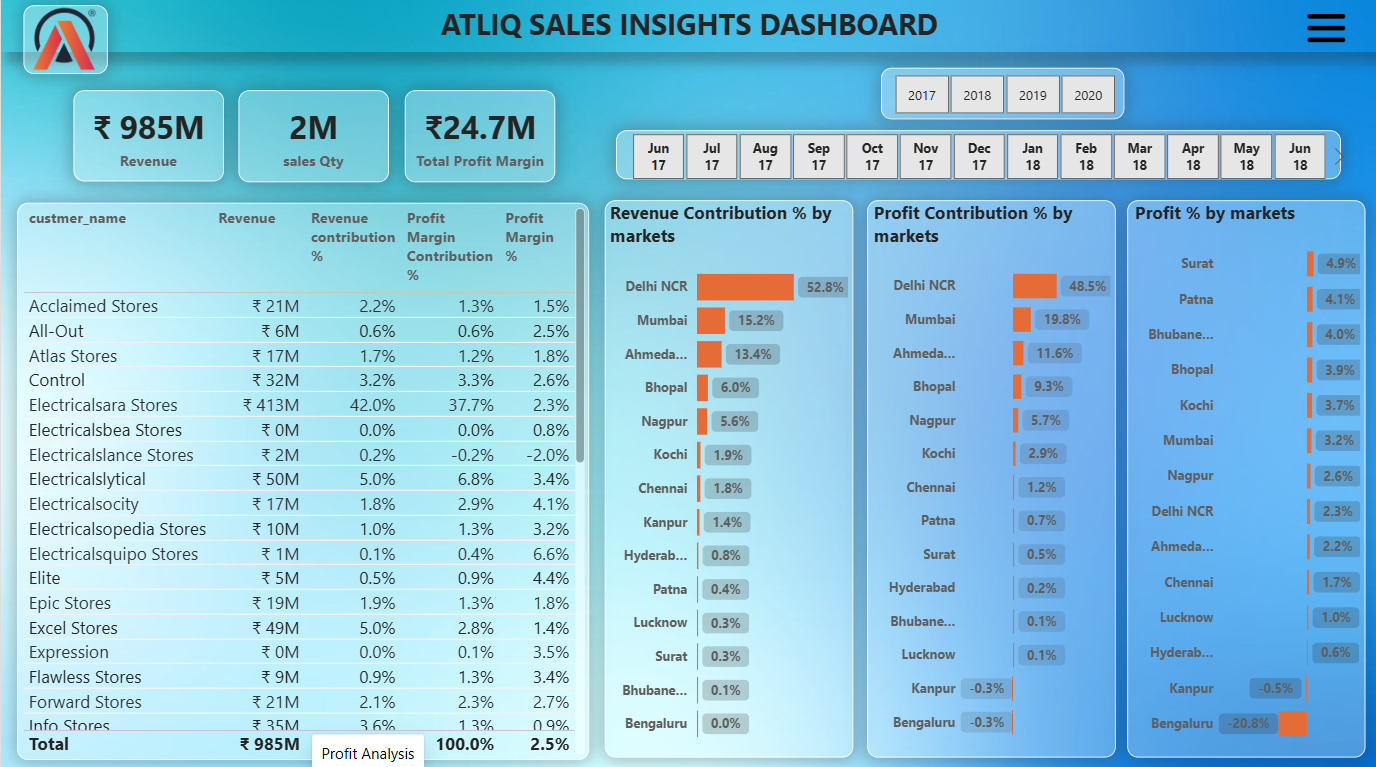

This screenshot's page, from the dashboard's own definition file:
{"tool":"powerbi","page":{"name":"Profit Analysis","canvas":[1280,720],"ordinal":1},"visuals":[{"type":"textbox","box":[0,0,1280.5,49.8],"z":0},{"type":"image","box":[1210.2,4.4,45.4,45.4],"z":1000},{"type":"shape","box":[67.5,84.4,139.9,84.4],"z":6000},{"type":"shape","box":[375.1,84.4,139.9,85.6],"z":7000},{"type":"shape","box":[220.7,84.4,139.9,85.6],"z":8000},{"type":"shape","box":[15.7,189.3,531.9,518.6],"z":9000},{"type":"shape","box":[562,186.9,231.6,518.6],"z":10000},{"type":"shape","box":[805.6,186.9,231.6,518.6],"z":11000},{"type":"shape","box":[1048,186.9,221.9,518.6],"z":12000},{"type":"shape","box":[818.9,63.9,226.7,48.2],"z":13000},{"type":"shape","box":[571.7,121.8,674.2,45.8],"z":14000},{"type":"shape","box":[20.5,6,78.4,63.9],"z":15000},{"type":"tableEx","title":"Top 5 customer","fields":{"Values":["sales customers.custmer_name","Base Measures 2.Revenue","Base Measures 2.Revenue contribution %","Base Measures 2.Profit Margin Contribution %","Base Measures 2.Profit Margin %"]},"box":[15.7,189.3,533.1,518.6],"z":16000},{"type":"slicer","fields":{"Values":["sales date.year"]},"box":[805.6,63.9,254.5,49.4],"z":17000},{"type":"slicer","fields":{"Values":["sales date.cy_date"]},"box":[562,118.2,694.7,50.7],"z":18000},{"type":"card","fields":{"Values":["Base Measures 2.Total Profit Margin"]},"box":[379.9,88,131.5,79.6],"z":19000},{"type":"card","fields":{"Values":["Base Measures 2.sales Qty"]},"box":[220.7,88,139.9,79.6],"z":20000},{"type":"card","fields":{"Values":["Base Measures 2.Revenue"]},"box":[67.5,88,139.9,79.6],"z":21000},{"type":"barChart","title":"Revenue Contribution % by markets","fields":{"Category":["sales markets.markets_name"],"Y":["Base Measures 2.Revenue contribution %"]},"box":[562,186.9,231.6,517.4],"z":22000},{"type":"barChart","title":"Profit Contribution % by markets","fields":{"Category":["sales markets.markets_name"],"Y":["Base Measures 2.Profit Margin Contribution %"]},"box":[806.8,186.9,230.4,515],"z":23000},{"type":"barChart","title":"Profit % by markets","fields":{"Category":["sales markets.markets_name"],"Y":["Base Measures 2.Profit Margin %"]},"box":[1050.5,186.9,219.5,517.4],"z":24000},{"type":"image","box":[15.7,2.4,88,68.7],"z":25000}]}

Visuals, with their boxes in screenshot pixels (x1, y1, x2, y2), scaled from the page's 1280x720 canvas onto the 1376x767 screenshot:
textbox: pyautogui.locateOnScreen(0, 0, 1375, 53)
image: pyautogui.locateOnScreen(1301, 5, 1350, 53)
shape: pyautogui.locateOnScreen(73, 90, 223, 180)
shape: pyautogui.locateOnScreen(403, 90, 554, 181)
shape: pyautogui.locateOnScreen(237, 90, 388, 181)
shape: pyautogui.locateOnScreen(17, 202, 589, 754)
shape: pyautogui.locateOnScreen(604, 199, 853, 752)
shape: pyautogui.locateOnScreen(866, 199, 1115, 752)
shape: pyautogui.locateOnScreen(1127, 199, 1365, 752)
shape: pyautogui.locateOnScreen(880, 68, 1124, 119)
shape: pyautogui.locateOnScreen(615, 130, 1339, 179)
shape: pyautogui.locateOnScreen(22, 6, 106, 74)
"Top 5 customer" tableEx: pyautogui.locateOnScreen(17, 202, 590, 754)
slicer - sales date.year: pyautogui.locateOnScreen(866, 68, 1140, 121)
slicer - sales date.cy_date: pyautogui.locateOnScreen(604, 126, 1351, 180)
card - Base Measures 2.Total Profit Margin: pyautogui.locateOnScreen(408, 94, 550, 179)
card - Base Measures 2.sales Qty: pyautogui.locateOnScreen(237, 94, 388, 179)
card - Base Measures 2.Revenue: pyautogui.locateOnScreen(73, 94, 223, 179)
"Revenue Contribution % by markets" barChart: pyautogui.locateOnScreen(604, 199, 853, 750)
"Profit Contribution % by markets" barChart: pyautogui.locateOnScreen(867, 199, 1115, 748)
"Profit % by markets" barChart: pyautogui.locateOnScreen(1129, 199, 1365, 750)
image: pyautogui.locateOnScreen(17, 3, 111, 76)
